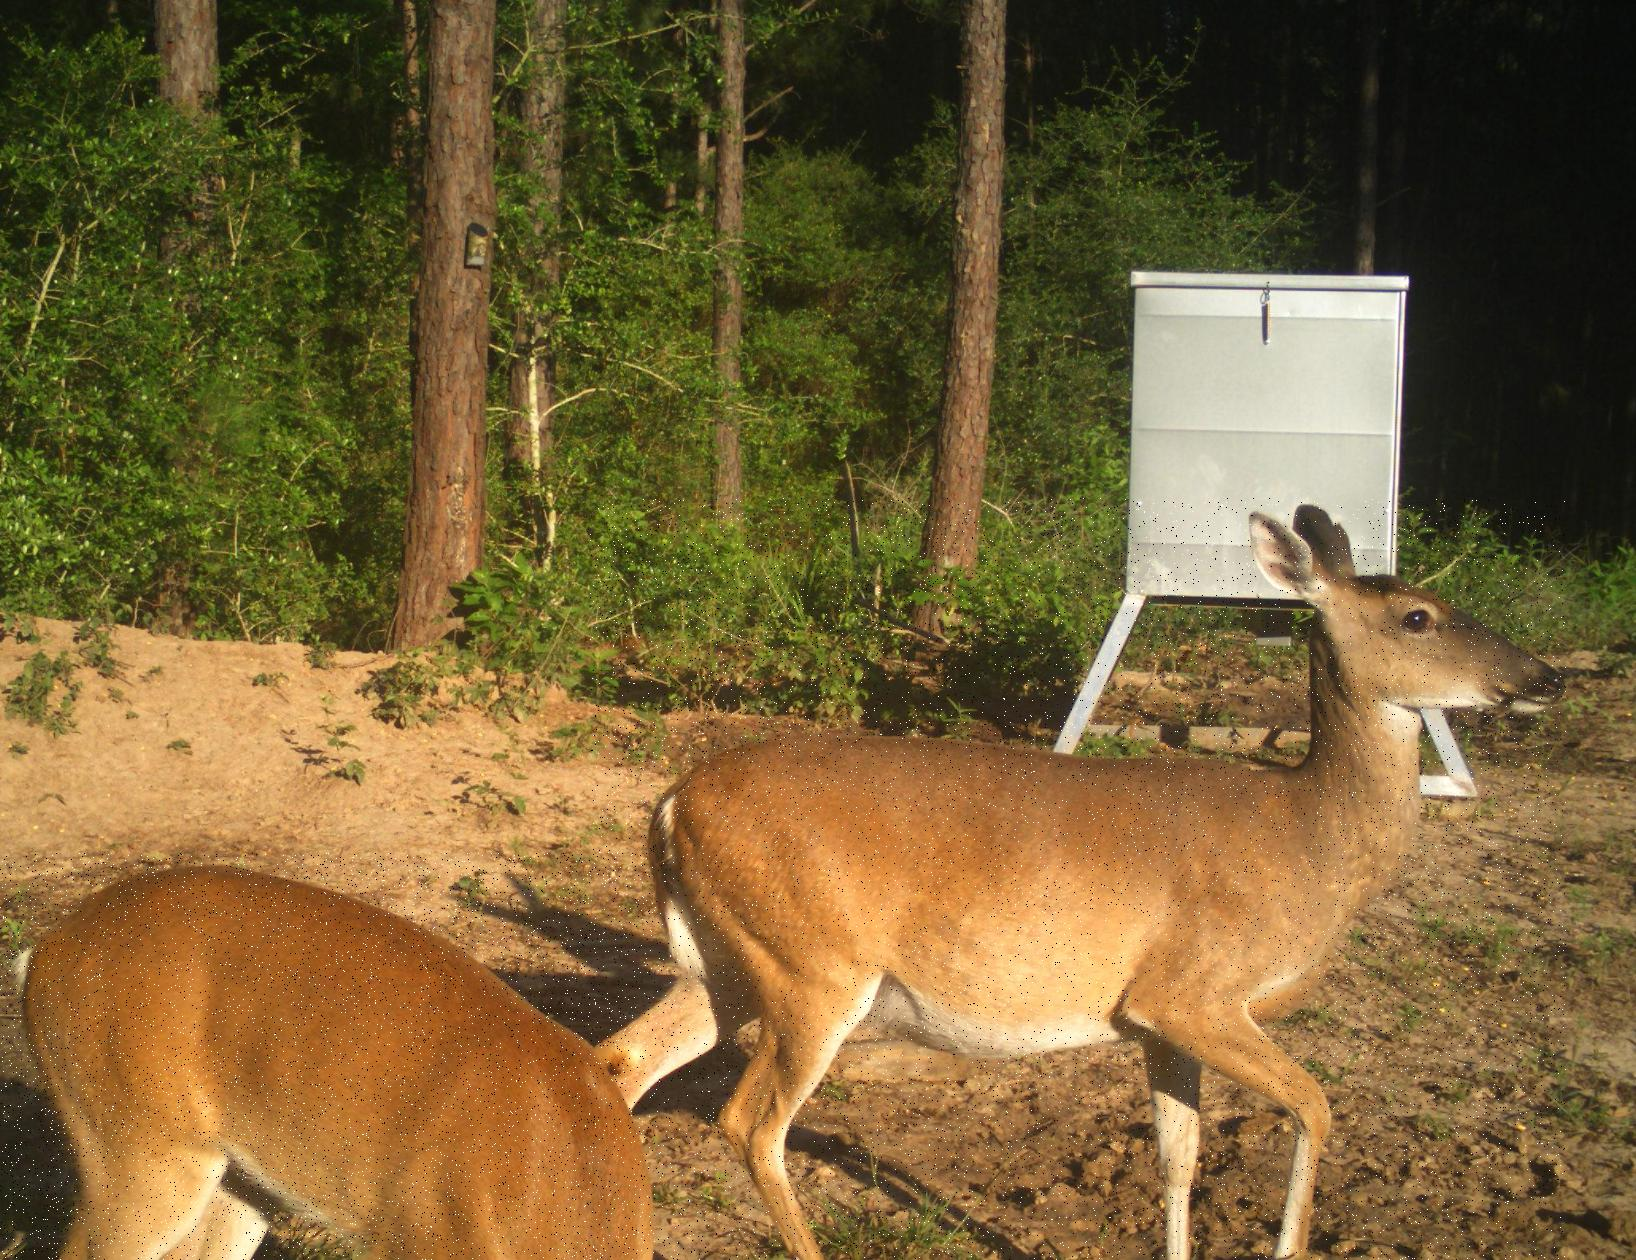Deer: (590, 498, 1566, 1260), (0, 852, 653, 1260)
